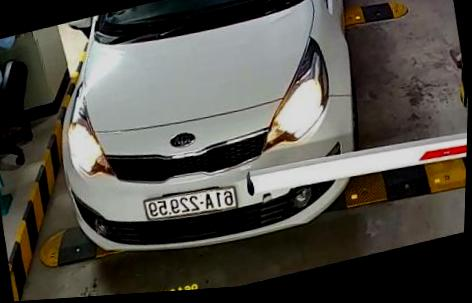License_Plate: (142, 179, 251, 227)
